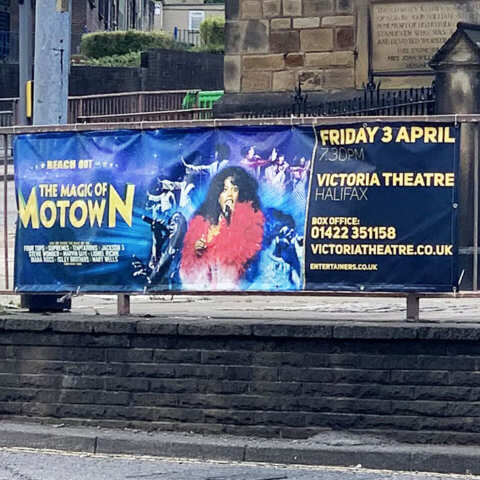vinyl banner: (7, 119, 464, 297)
